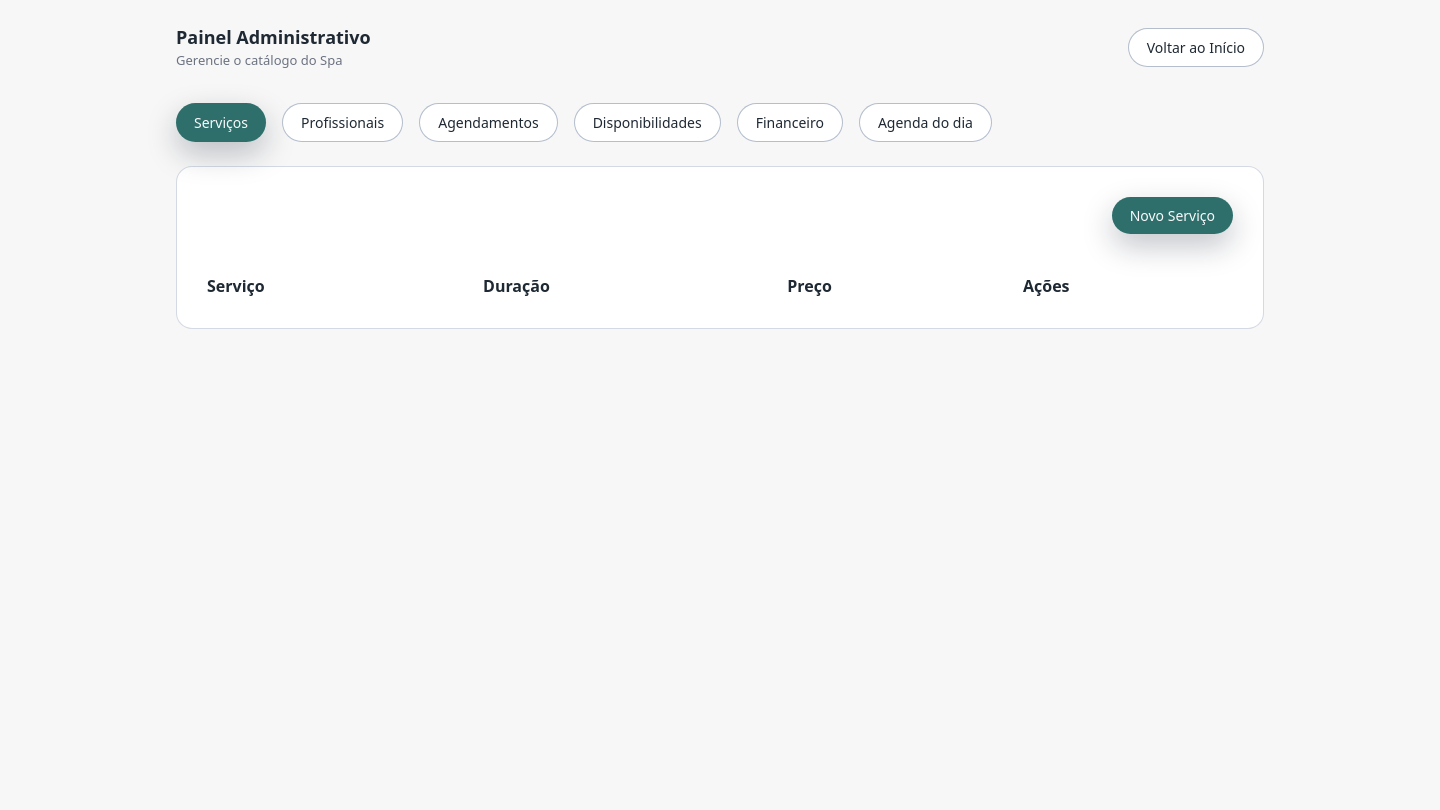
admin_modal_stays_open_on_422 › admin_modal_stays_open_on_422
Click the button "Agendamentos" at point(488, 122), box [419,102,558,142]
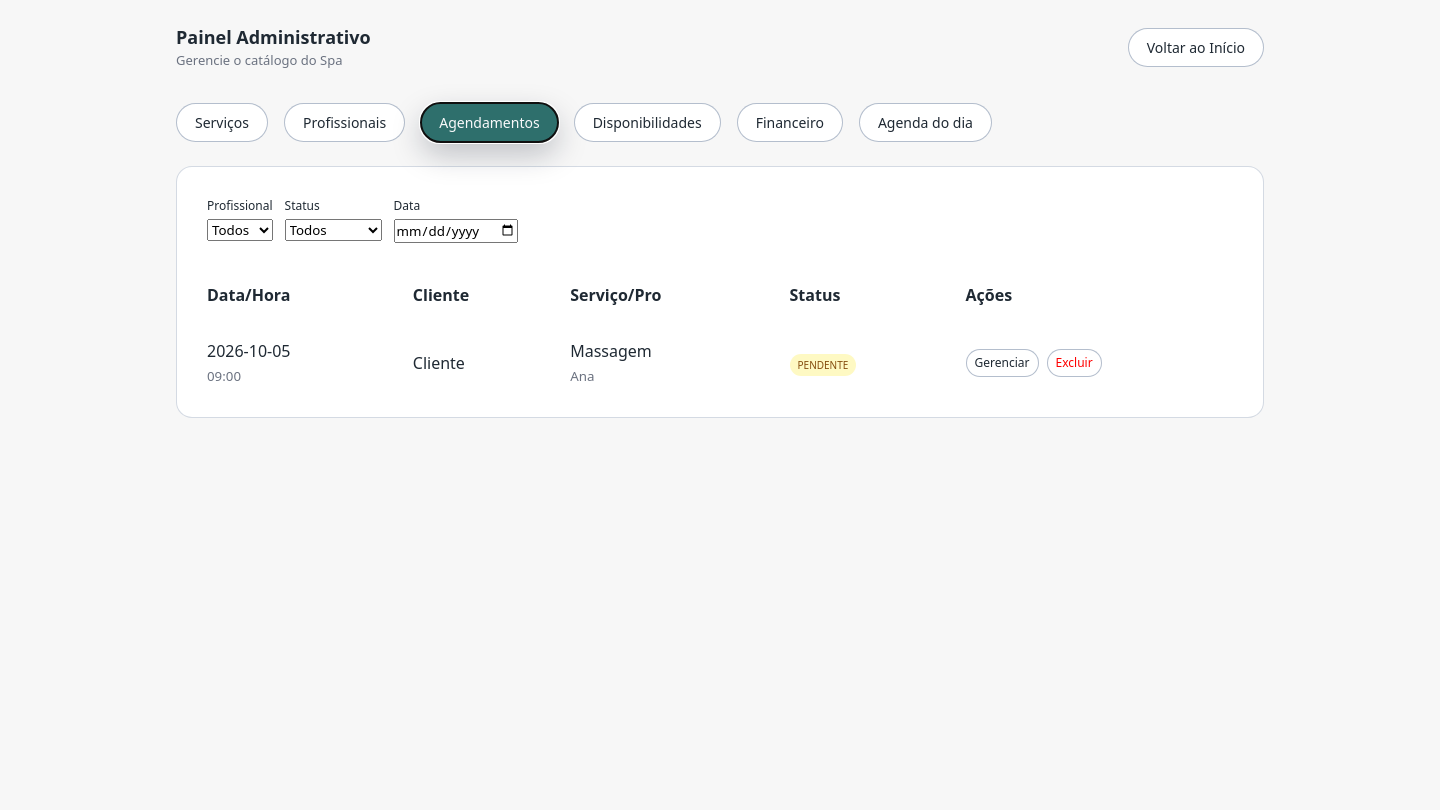
Click the button "Gerenciar" at point(1002, 362), box [966,348,1038,376]
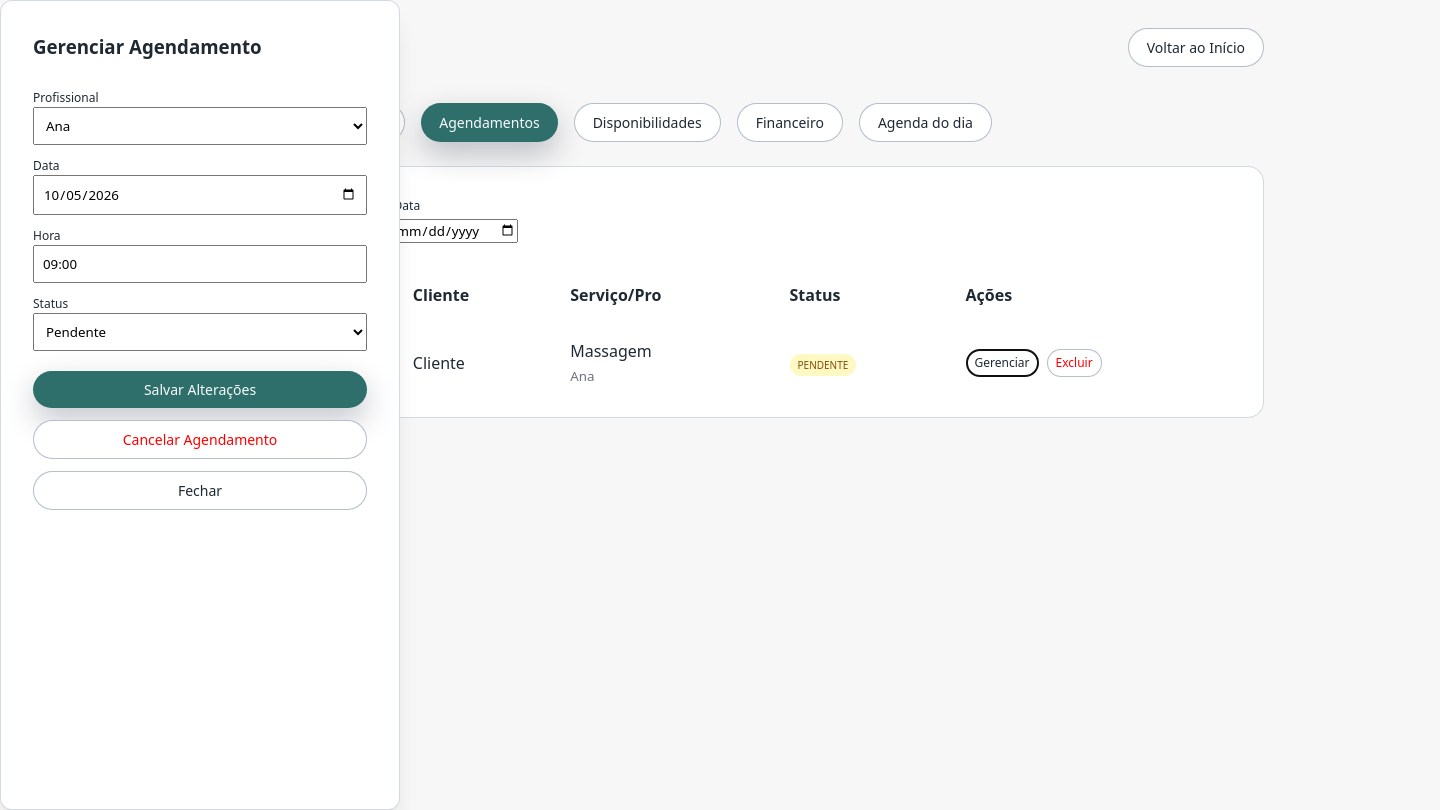
Expected: the heading "Gerenciar Agendamento" is shown, [33,34,262,59]
Click the button "Salvar Alterações" at point(200, 390), box [33,371,367,408]
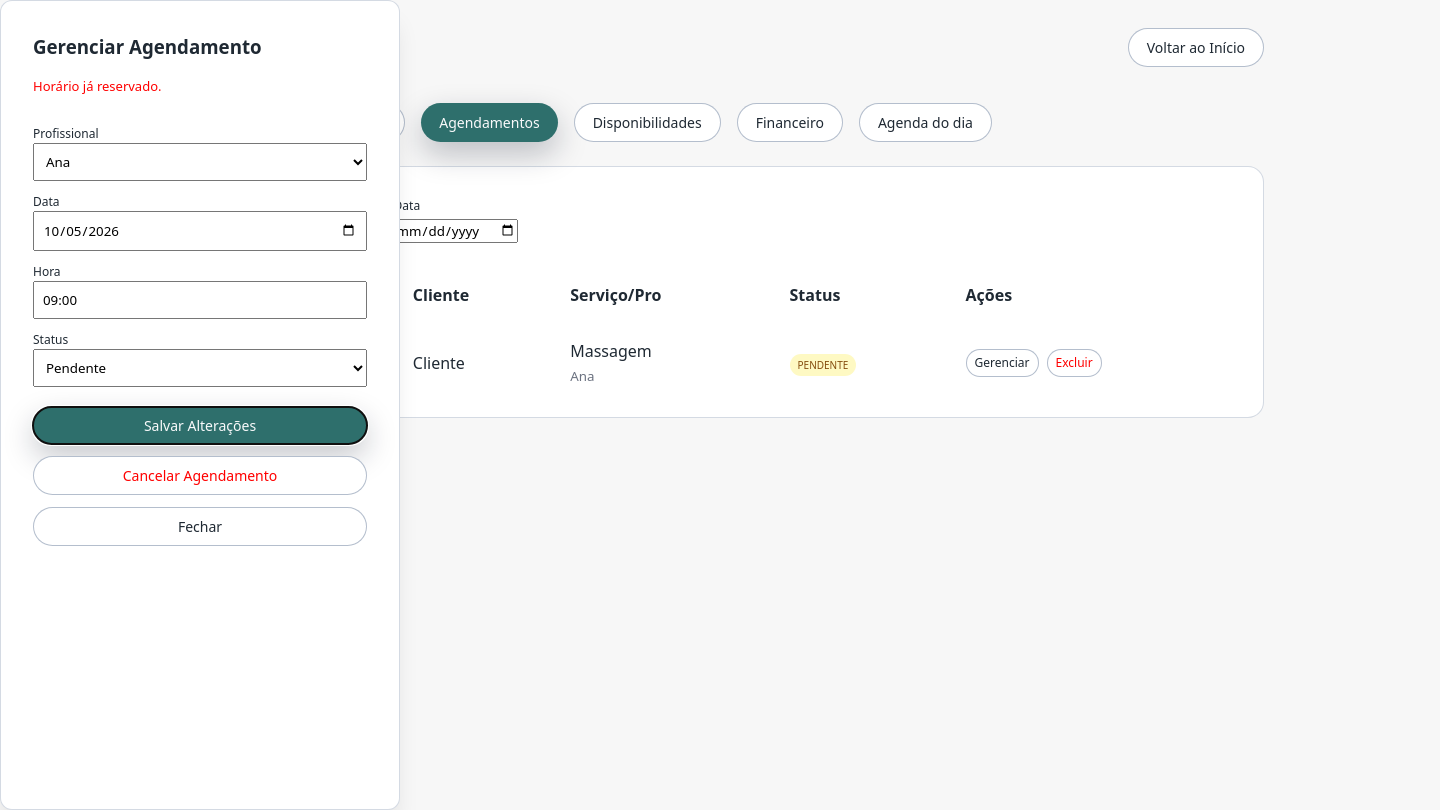
Expected: the heading "Gerenciar Agendamento" is shown, [33,34,262,59]
Expected: the message reads "Horário já reservado.", [33,77,162,95]
